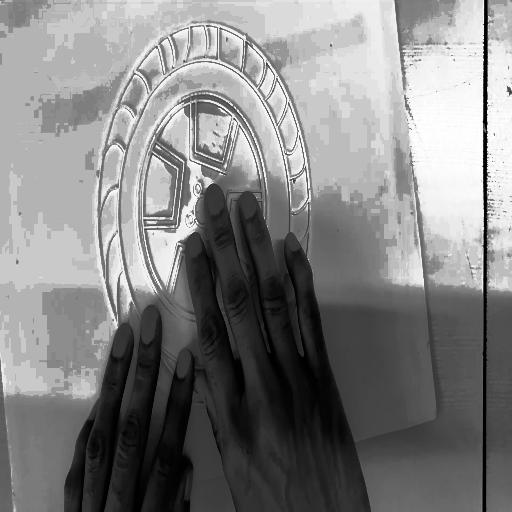bottom_right: (432, 410, 442, 425)
tire: (72, 0, 368, 457)
